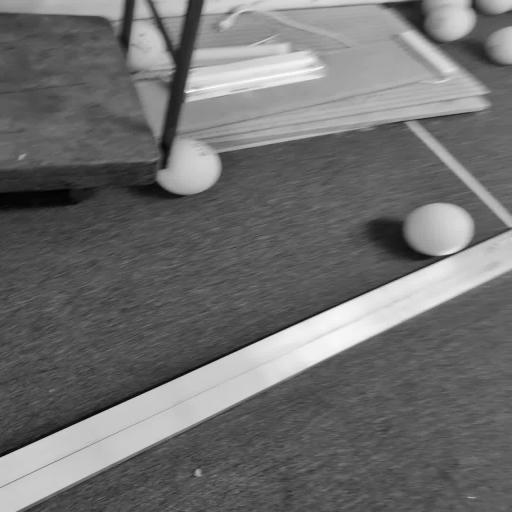fuel: (403, 203, 473, 256), (157, 139, 221, 195), (127, 21, 165, 72), (424, 6, 475, 42), (485, 26, 512, 65), (422, 0, 472, 14), (475, 0, 512, 14)
